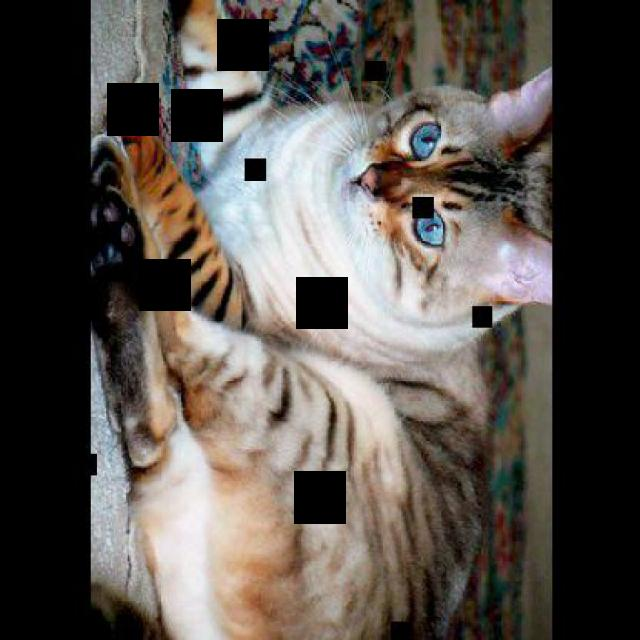unauthorized: (87, 0, 552, 638)
